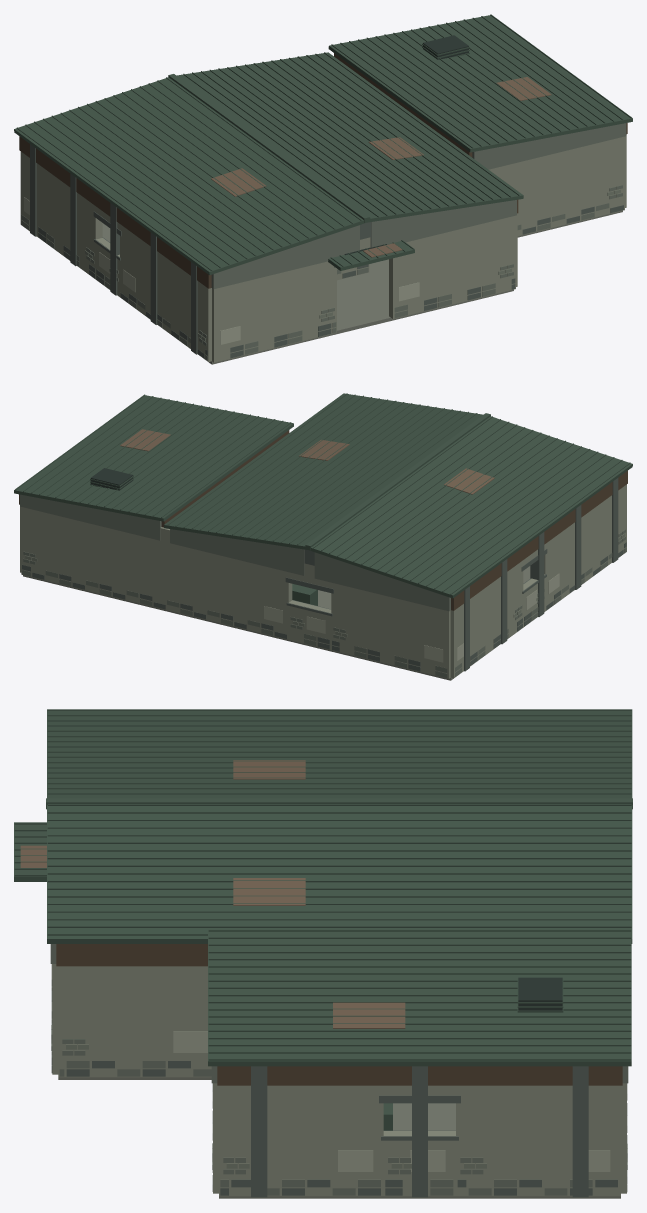
The model's file is FSA_ENV_Shared_Retained_02_HallWing.glb.
The picture shows the model from 3 angles, top to bottom: view 1: azimuth 30°, elevation 25°; view 2: azimuth 150°, elevation 25°; view 3: azimuth 270°, elevation 25°; orthographic projection. The views are drawn at different scales.
Visible parts, largest first — view 1: Roof_MainL, Roof_MainR, Roof_Wing, FrontLeft, FrontRight, WingFront, WestRight, WestLeft, Floor_Main, RoofEave_612, Roof_Ridge, RoofPatch_508 (+11 smaller); view 2: Roof_MainL, Roof_MainR, BackRight, Roof_Wing, BackLeft, WestRight, WestLeft, RoofEave_612, Roof_Ridge, BackSill, Floor_Main, RoofPatch_508 (+12 smaller); view 3: Roof_MainR, Roof_Wing, Roof_MainL, WingEastLeft, Notch, WingEastRight, RoofEave_727, Roof_Ridge, RoofEave_669, Floor_Wing, WingEastSill, WingButtress8 (+63 smaller).
Boxes of the visible parts, <box> form: Roof_MainL: <box>14,77,364,275</box>; Roof_MainR: <box>176,52,523,222</box>; Roof_Wing: <box>328,15,632,152</box>; FrontLeft: <box>212,261,336,362</box>; FrontRight: <box>389,215,515,318</box>; WingFront: <box>489,136,624,235</box>; WestRight: <box>120,224,211,361</box>; WestLeft: <box>20,151,102,279</box>; Floor_Main: <box>102,223,513,364</box>; RoofEave_612: <box>19,136,211,288</box>; Roof_Ridge: <box>168,74,369,222</box>; RoofPatch_508: <box>211,168,266,196</box>; Roof_MainL: <box>309,416,632,598</box>; Roof_MainR: <box>164,393,482,549</box>; BackRight: <box>21,507,292,639</box>; Roof_Wing: <box>14,395,293,521</box>; BackLeft: <box>331,582,450,678</box>; WestRight: <box>544,484,626,611</box>; WestLeft: <box>450,560,523,678</box>; RoofEave_612: <box>451,471,627,610</box>; Roof_Ridge: <box>305,413,490,550</box>; BackSill: <box>288,600,331,649</box>; Floor_Main: <box>172,566,530,680</box>; RoofPatch_508: <box>444,468,494,494</box>; Roof_MainR: <box>47,805,632,943</box>; Roof_Wing: <box>208,929,631,1066</box>; Roof_MainL: <box>47,709,632,798</box>; WingEastLeft: <box>456,1085,620,1196</box>; Notch: <box>58,966,211,1077</box>; WingEastRight: <box>219,1085,383,1196</box>; RoofEave_727: <box>217,1066,622,1085</box>; Roof_Ridge: <box>46,798,632,809</box>; RoofEave_669: <box>56,944,207,966</box>; Floor_Wing: <box>219,1103,620,1198</box>; WingEastSill: <box>383,1131,455,1196</box>; WingButtress8: <box>572,1066,588,1197</box>.
Size of the model in its own units: 20.54 by 4.64 by 15.4.
